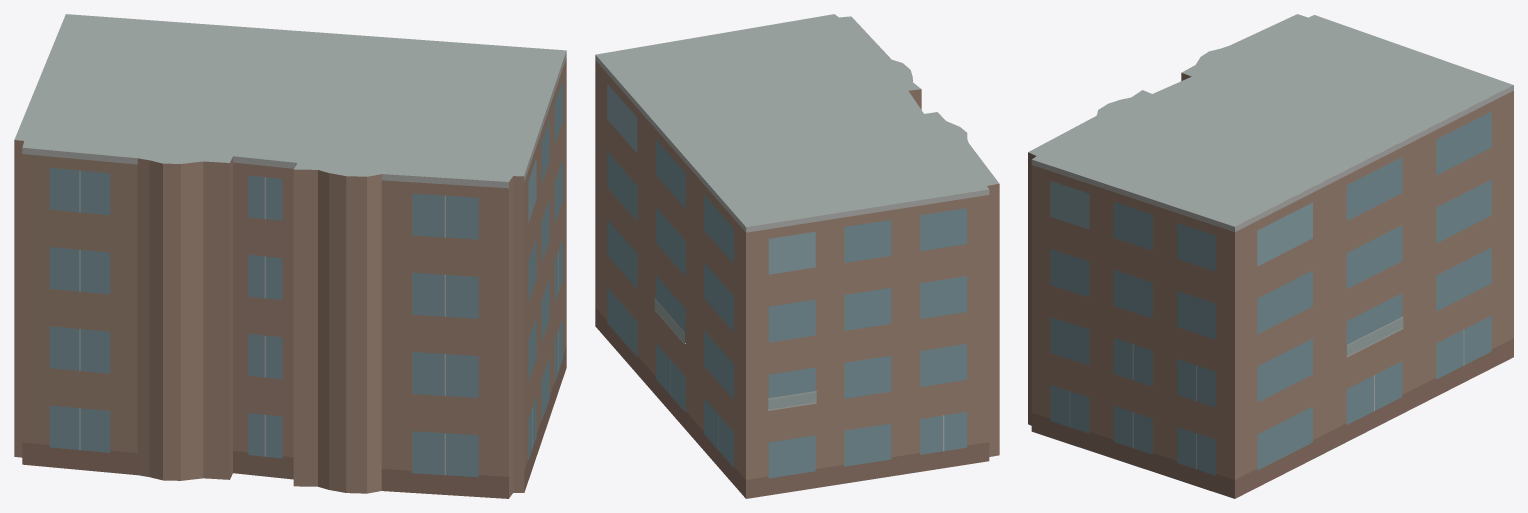
The model's file is survey-upis-32705861.glb.
3 views of the same model, side by side, from view 1: azimuth 30°, elevation 25°; view 2: azimuth 150°, elevation 25°; view 3: azimuth 270°, elevation 25° (orthographic). The views are drawn at different scales.
Parts seen in each view (by area): view 1: survey-upis-32705861.tmp; view 2: survey-upis-32705861.tmp; view 3: survey-upis-32705861.tmp.
Boxes of the visible parts, x1,y1,x2,y2 form: survey-upis-32705861.tmp: [14, 14, 566, 498]; survey-upis-32705861.tmp: [595, 14, 999, 498]; survey-upis-32705861.tmp: [1028, 14, 1513, 498].
Size of the model in its own units: 20.64 by 12.3 by 19.91.
